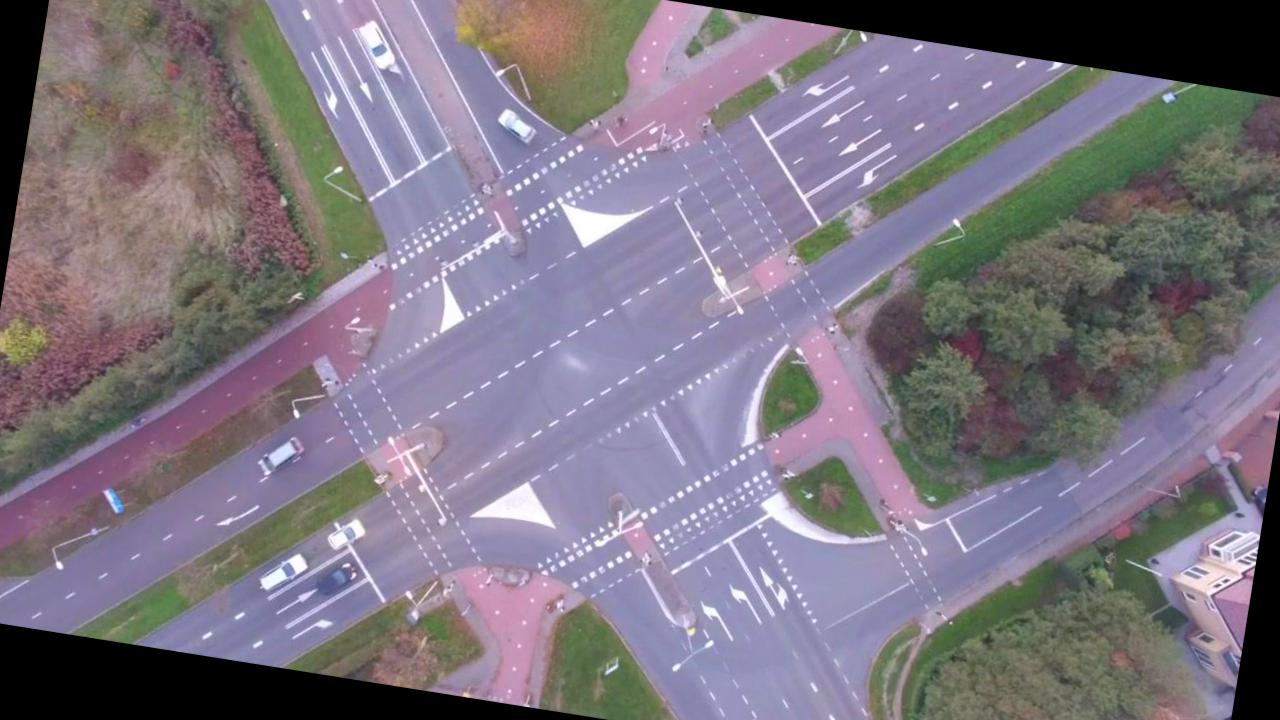vehicle: (256, 546, 310, 596), (350, 18, 400, 71), (255, 430, 305, 482), (491, 104, 540, 144), (314, 557, 358, 600), (328, 515, 367, 555)
